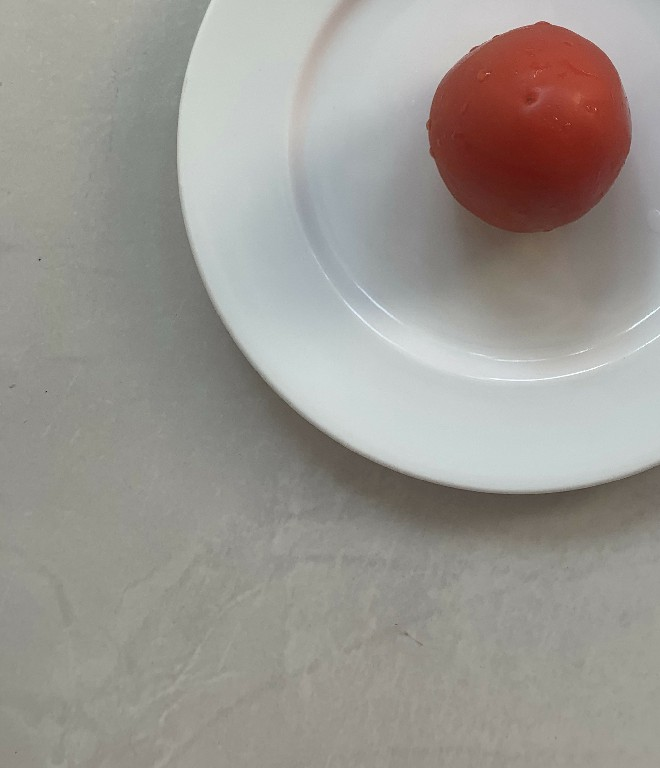OK: (420, 14, 641, 242)
